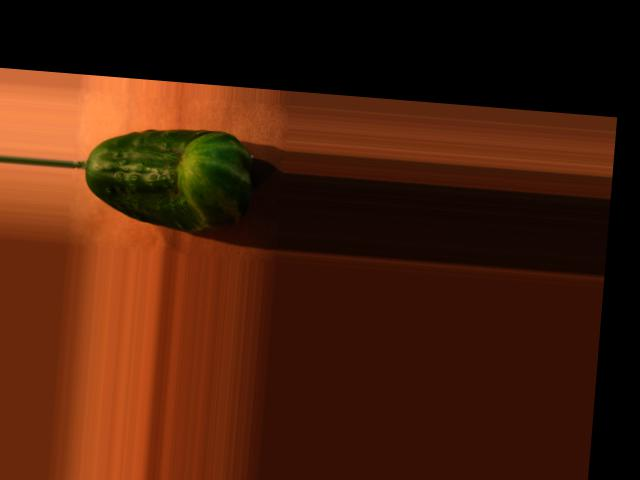cucumber: (80, 119, 255, 235)
